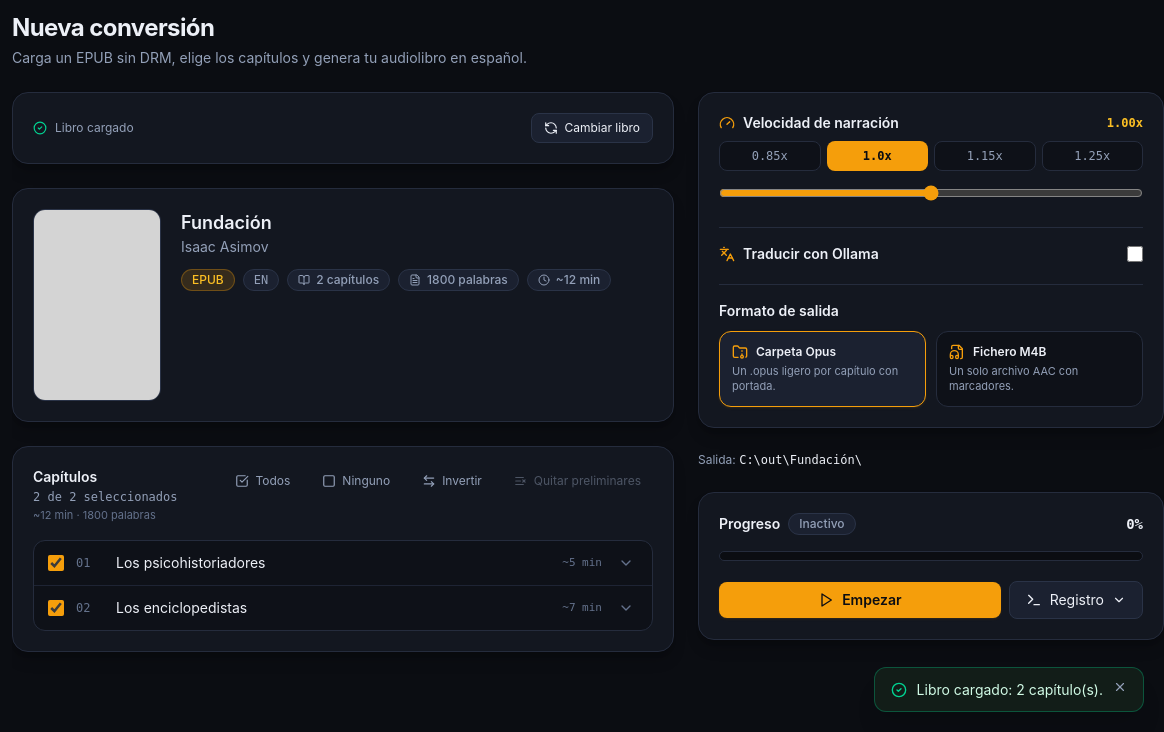
NewConversionPage › Ninguno/Todos buttons update selected chapter count and disable Empezar when none selected
Earlier steps of the test are not shown.
Expected: the text "2 de 2 seleccionados" is shown, [33,489,178,505]
Step 1. Click the button "Ninguno" → (356, 481), box [310,467,402,495]
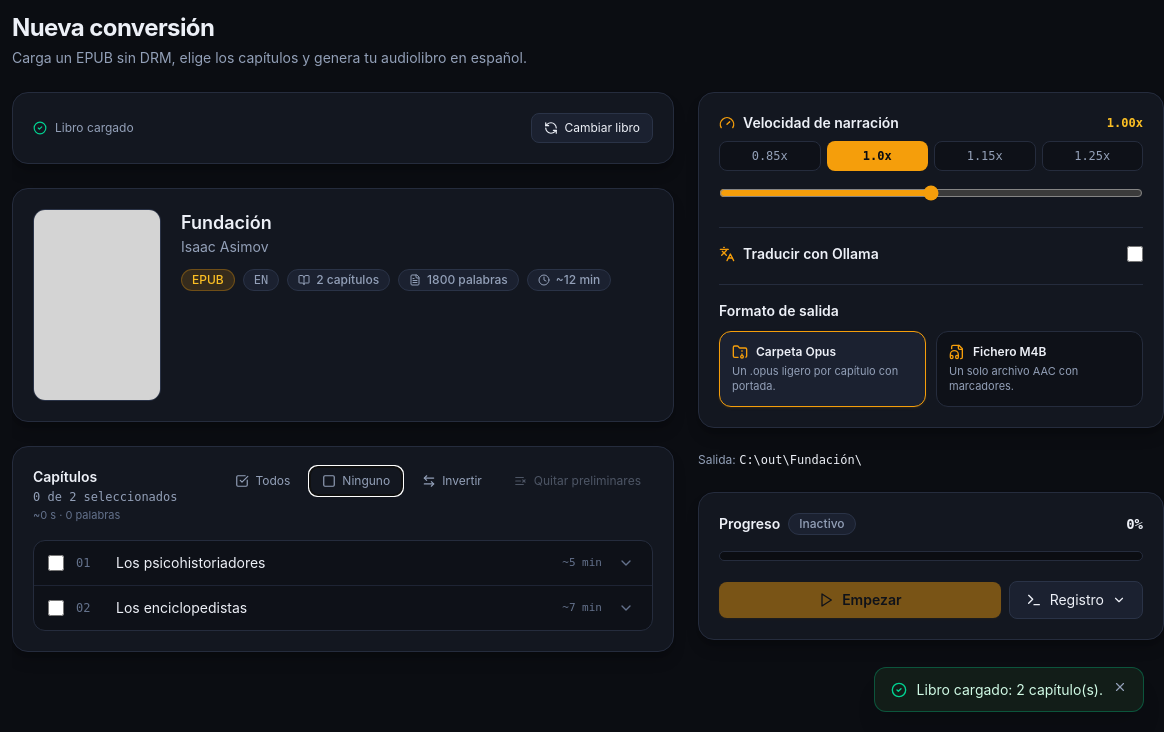
Expected: the text "0 de 2 seleccionados" is shown, [33,489,178,505]
Expected: the button "Empezar" is disabled, [719,582,1001,618]
Step 2. Click the button "Todos" → (263, 481), box [224,467,302,495]
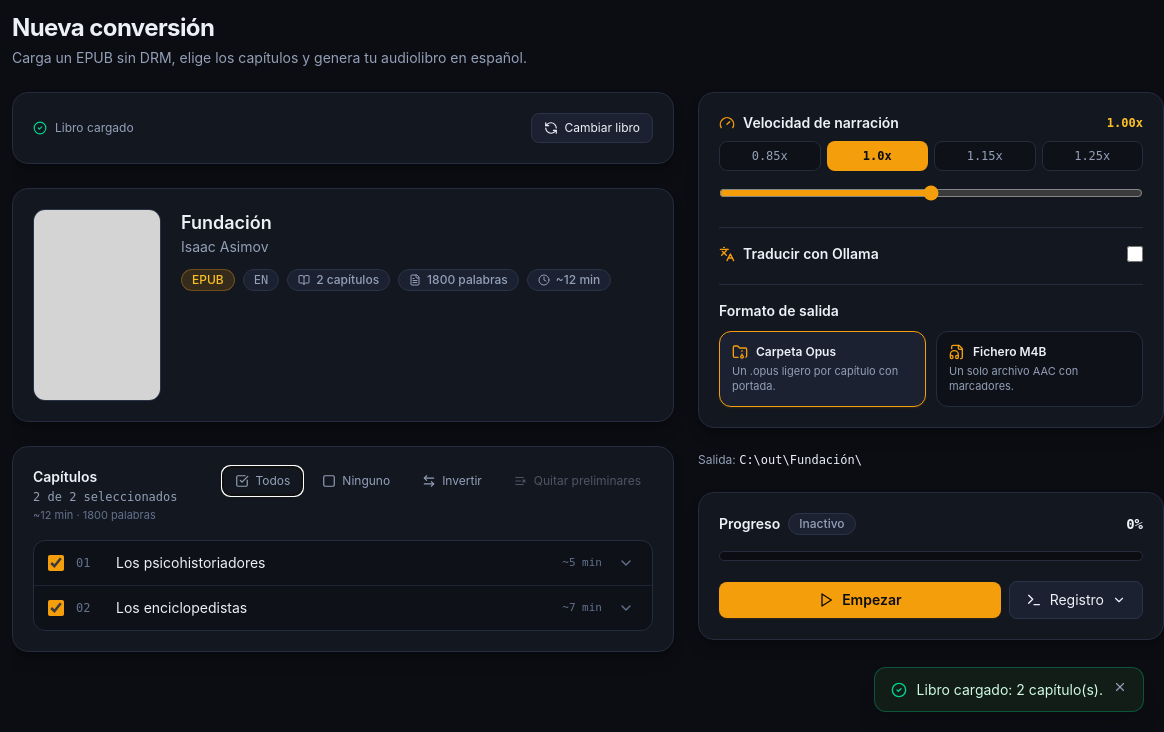
Expected: the text "2 de 2 seleccionados" is shown, [33,489,178,505]
Expected: the button "Empezar" is enabled, [719,582,1001,618]
